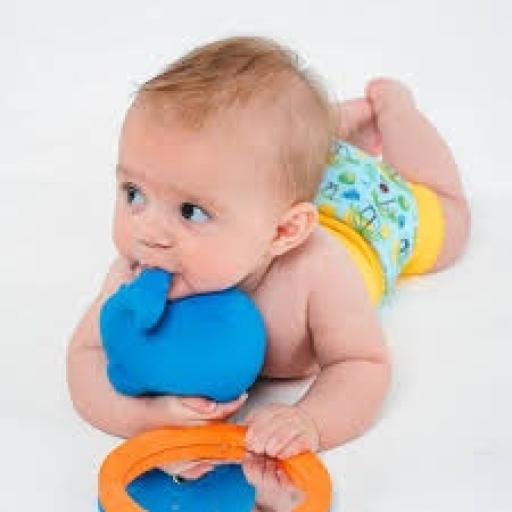baby: (69, 37, 471, 457)
